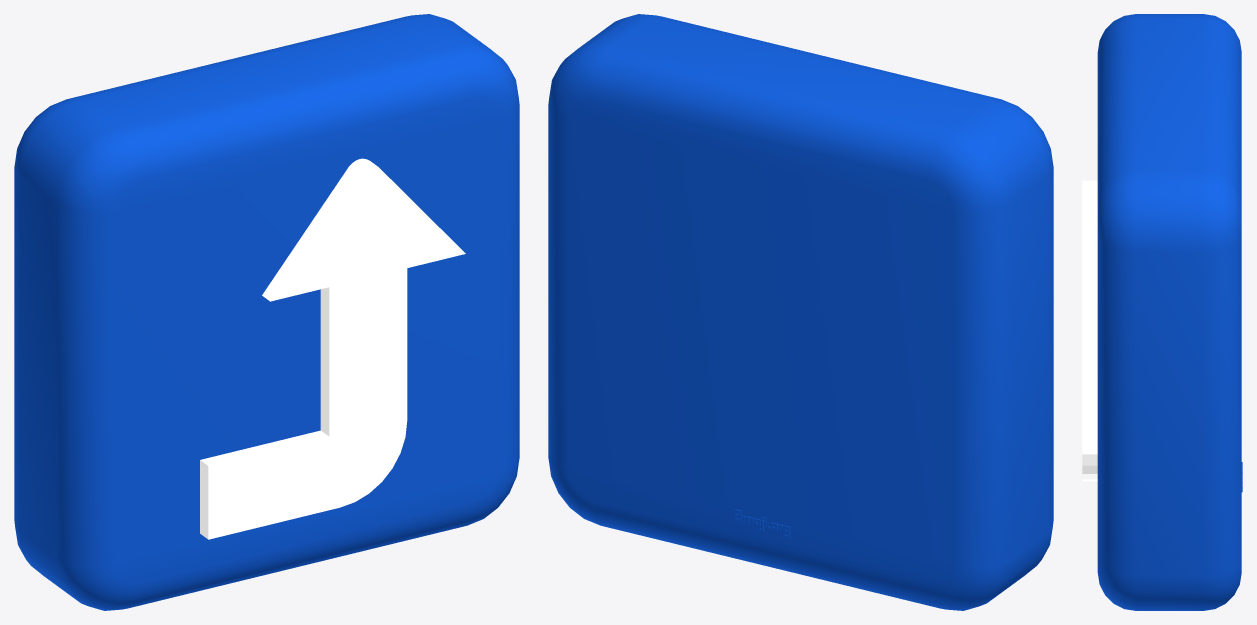
Rendered from right_arrow_curving_up.gltf.
3 renders of one model, left to right at view 1: azimuth 30°, elevation 25°; view 2: azimuth 150°, elevation 25°; view 3: azimuth 270°, elevation 25°, orthographic. The views are drawn at different scales.
Parts seen in each view (by area): view 1: Cube.6337; view 2: Cube.6337; view 3: Cube.6337.
Boxes of the visible parts, bbox=[...] form: Cube.6337: bbox=[14, 14, 519, 610]; Cube.6337: bbox=[548, 14, 1053, 610]; Cube.6337: bbox=[1082, 14, 1242, 610].
Bounding box in the file's own units: 2.2 × 2.2 × 0.7337.
1 material, 1 textured.
